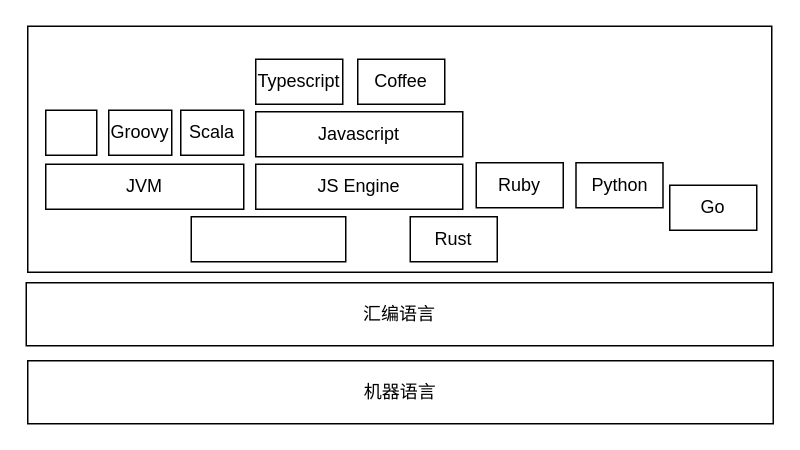
This 800x450 diagram has some shape labels left out. Each missing label, with the centre of its shape:
"C/C++" goes at (x=268, y=238).
"Java" goes at (x=70, y=132).
